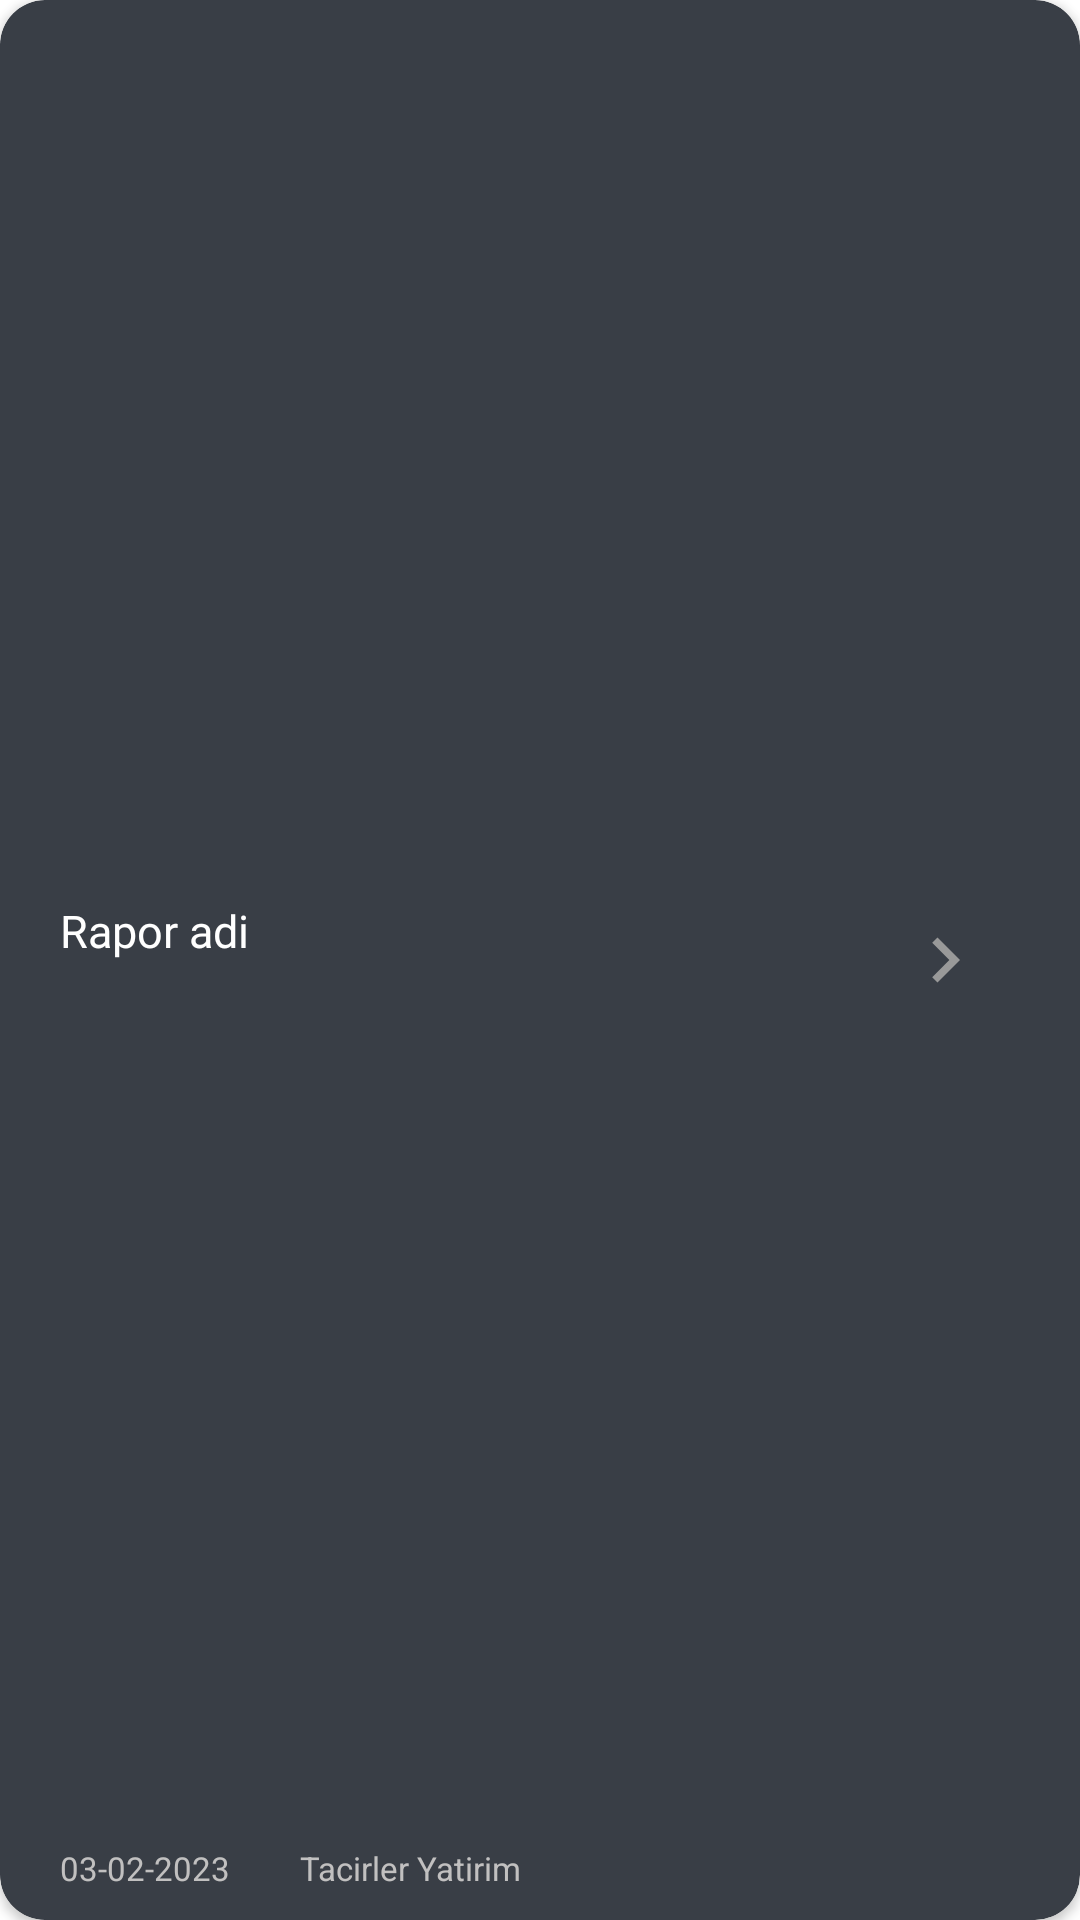

Icons on this 1080px×1920px Android screen, each with the point to tap as point (x, y):
navigate next: point (946, 960)
